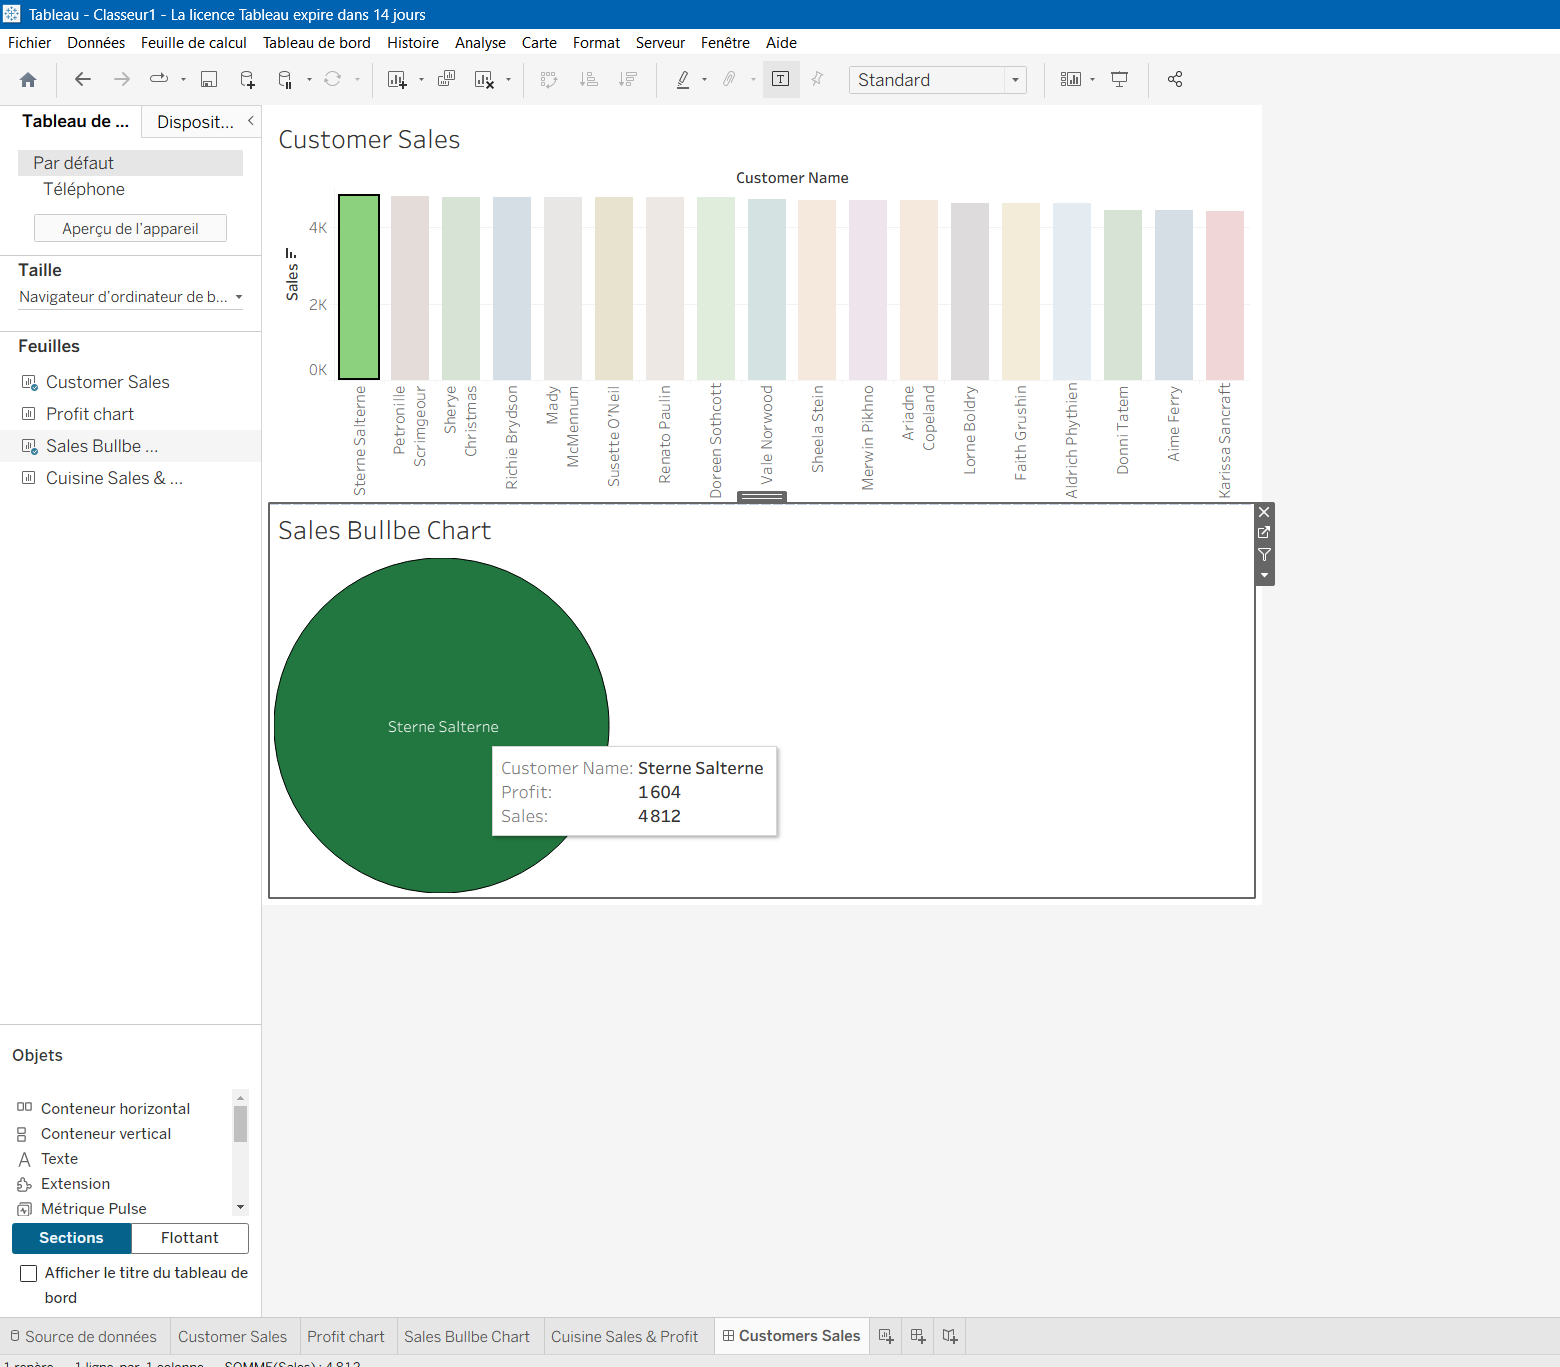

Layout of this report page (visuals, bound fields, positions):
{"tool":"tableau","page":{"name":"Customers Sales","canvas":[1000,800],"ordinal":0},"visuals":[{"type":"worksheet","title":"Customer Sales","mark":"Automatic","rows":["Sales"],"cols":["Customer Name"],"box":[8,8,984,391.2]},{"type":"worksheet","title":"Sales Bullbe Chart","mark":"Circle","box":[8,399.2,984,392.8]}]}

Visuals, with their boxes on the page's 1000x800 design canvas (x1, y1, x2, y2). These are canvas units, not pixel positions in the 1560x1367 screenshot, which may show the page scaled, cropped or inside an application window:
"Customer Sales" worksheet: 8,8,992,399
"Sales Bullbe Chart" worksheet (Circle marks): 8,399,992,792
